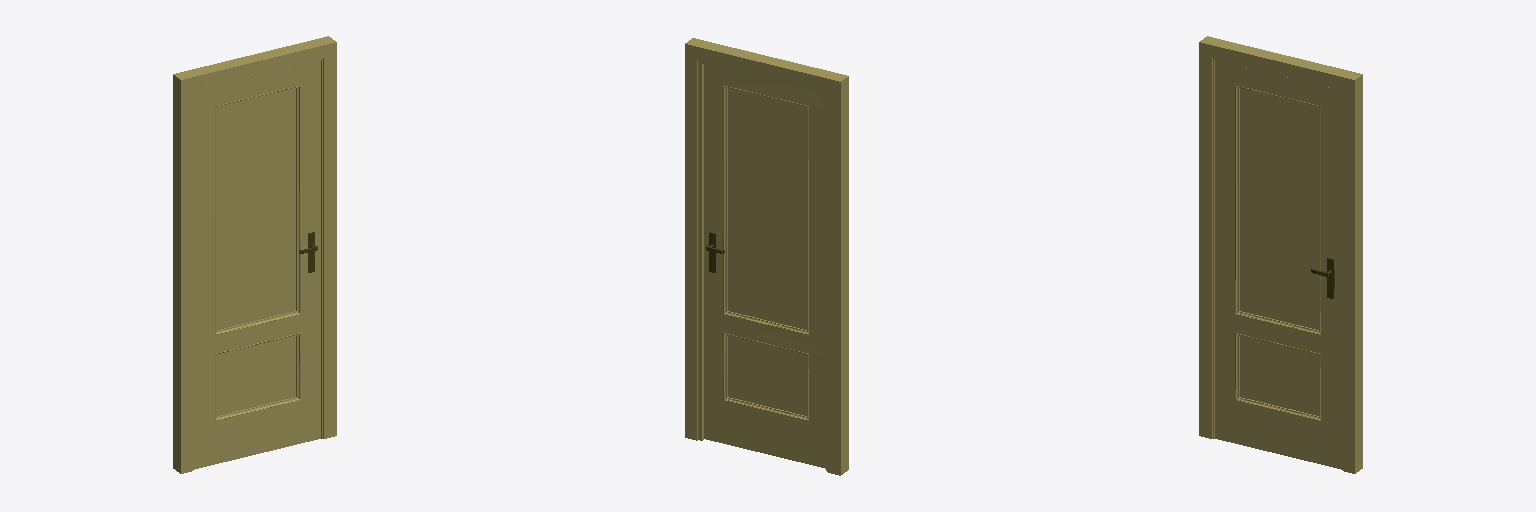
File: puerta_yafaray_door.obj
3 views of the same model, side by side, from view 1: azimuth 30°, elevation 25°; view 2: azimuth 150°, elevation 25°; view 3: azimuth 330°, elevation 25° (orthographic).
Parts seen in each view (by area): view 1: door_Mesh, marc_Cube; view 2: door_Mesh, marc_Cube; view 3: door_Mesh, marc_Cube.
Boxes of the visible parts, x1,y1,x2,y2 form: door_Mesh: [194, 60, 320, 469]; marc_Cube: [173, 36, 336, 473]; door_Mesh: [704, 64, 825, 468]; marc_Cube: [685, 38, 848, 475]; door_Mesh: [1215, 60, 1341, 469]; marc_Cube: [1199, 36, 1362, 473].
Size of the model in its own units: 0.8738 by 2.11 by 0.1381.